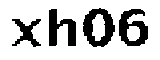0: (81, 5, 116, 49)
6: (117, 7, 153, 47)
h: (45, 5, 80, 51)
x: (10, 13, 42, 51)
